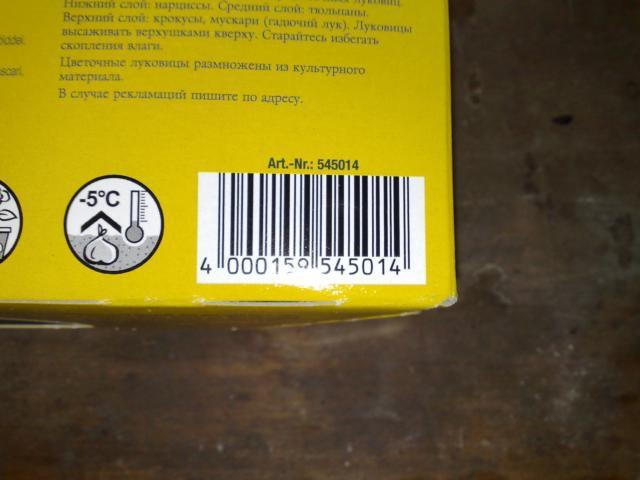Barcode: (197, 176, 418, 283)
